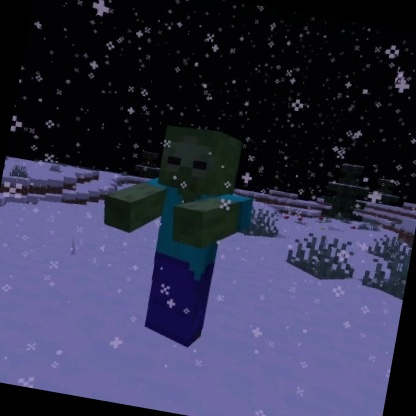zombie: (76, 107, 271, 362)
